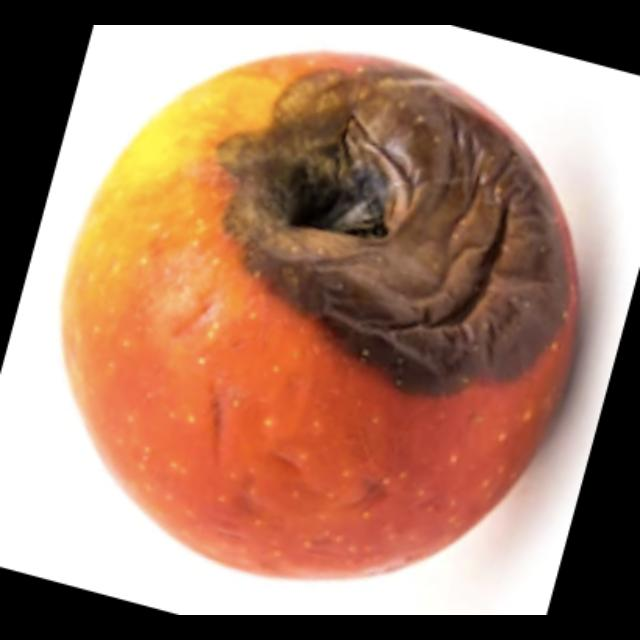Apel Tidak Segar: (56, 44, 586, 586)
